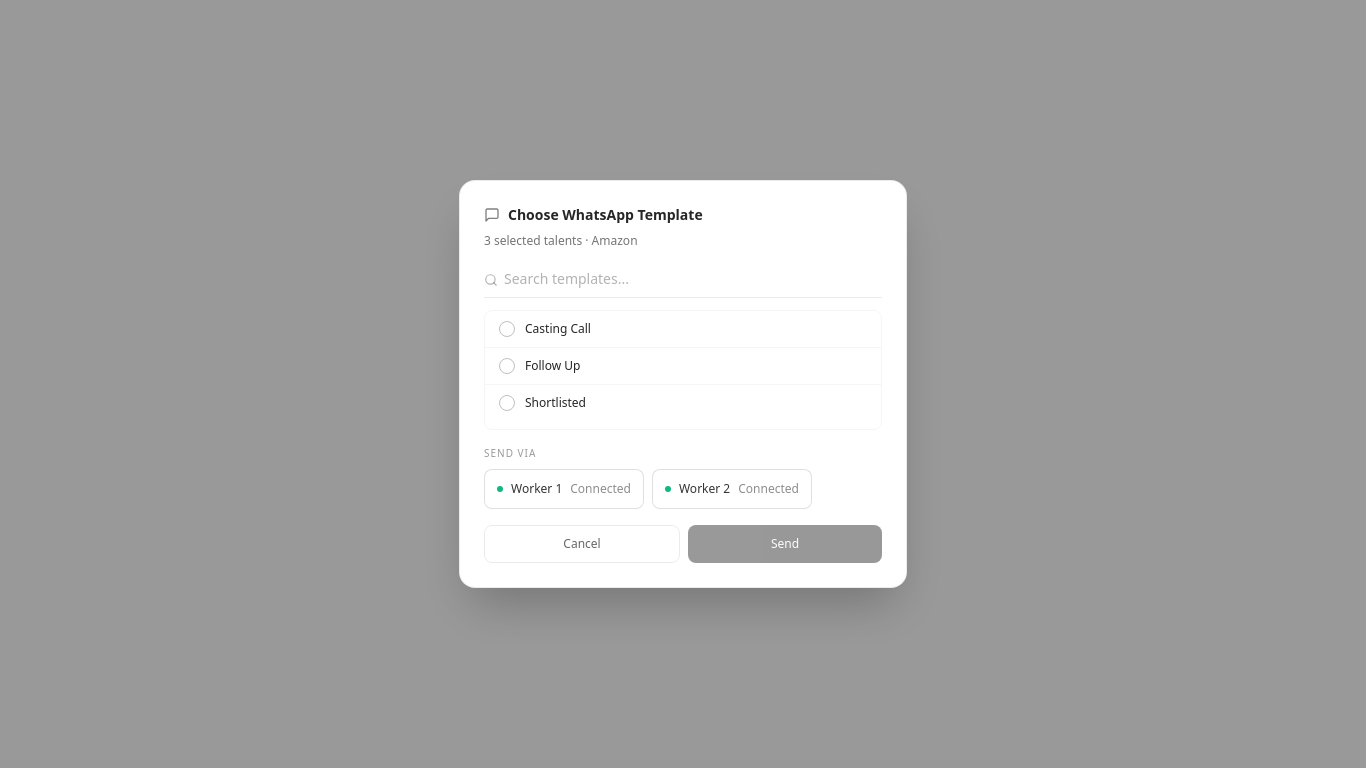
Test: PipelineTemplateSend — the picker › Send stays disabled until BOTH a template and a worker are chosen
The image size is (1366, 768).
Check: the button with test id "template-picker-send" is disabled, box [688,525,882,563]
Click the button with test id "template-picker-option-t-cc" at (558, 328), box [485,311,881,347]
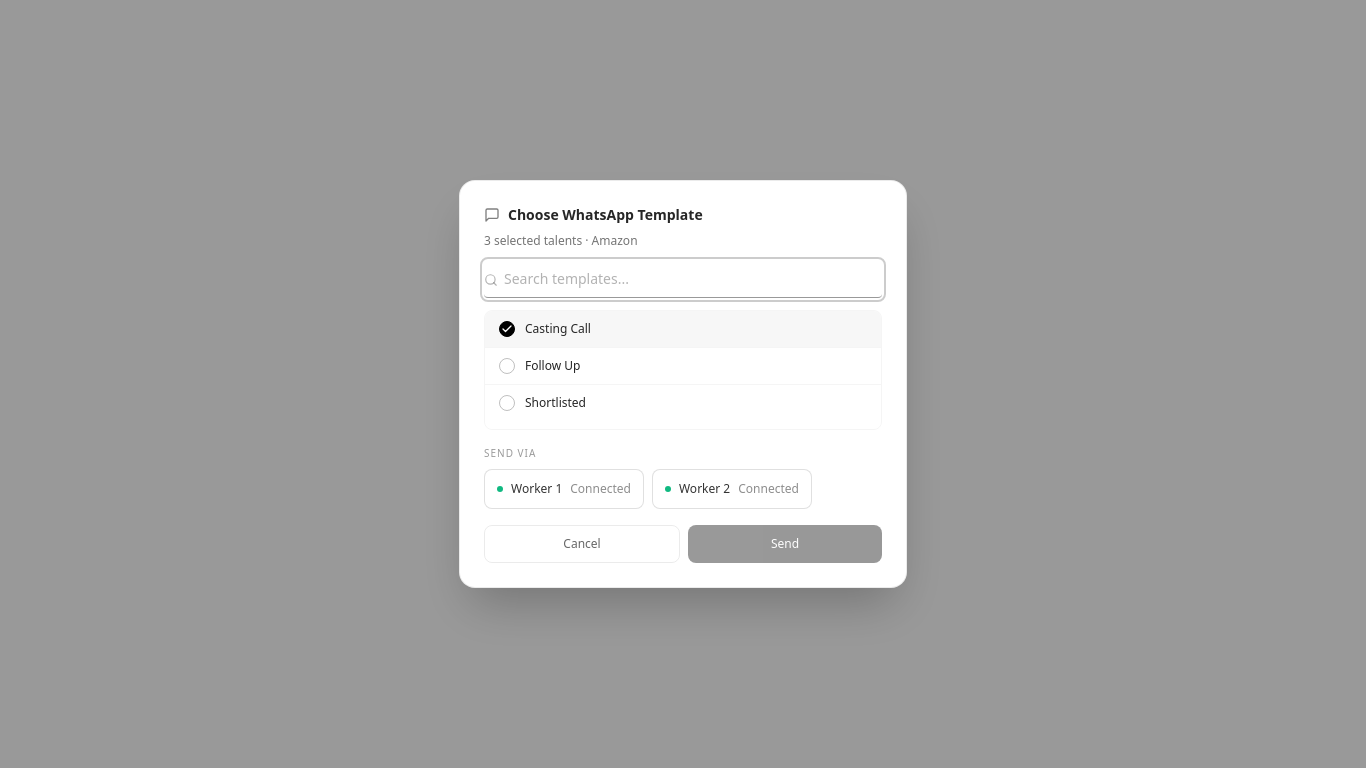
Check: the button with test id "template-picker-send" is disabled, box [688,525,882,563]
Click the radio button with test id "send-via-worker-2" at (732, 489), box [652,469,812,509]
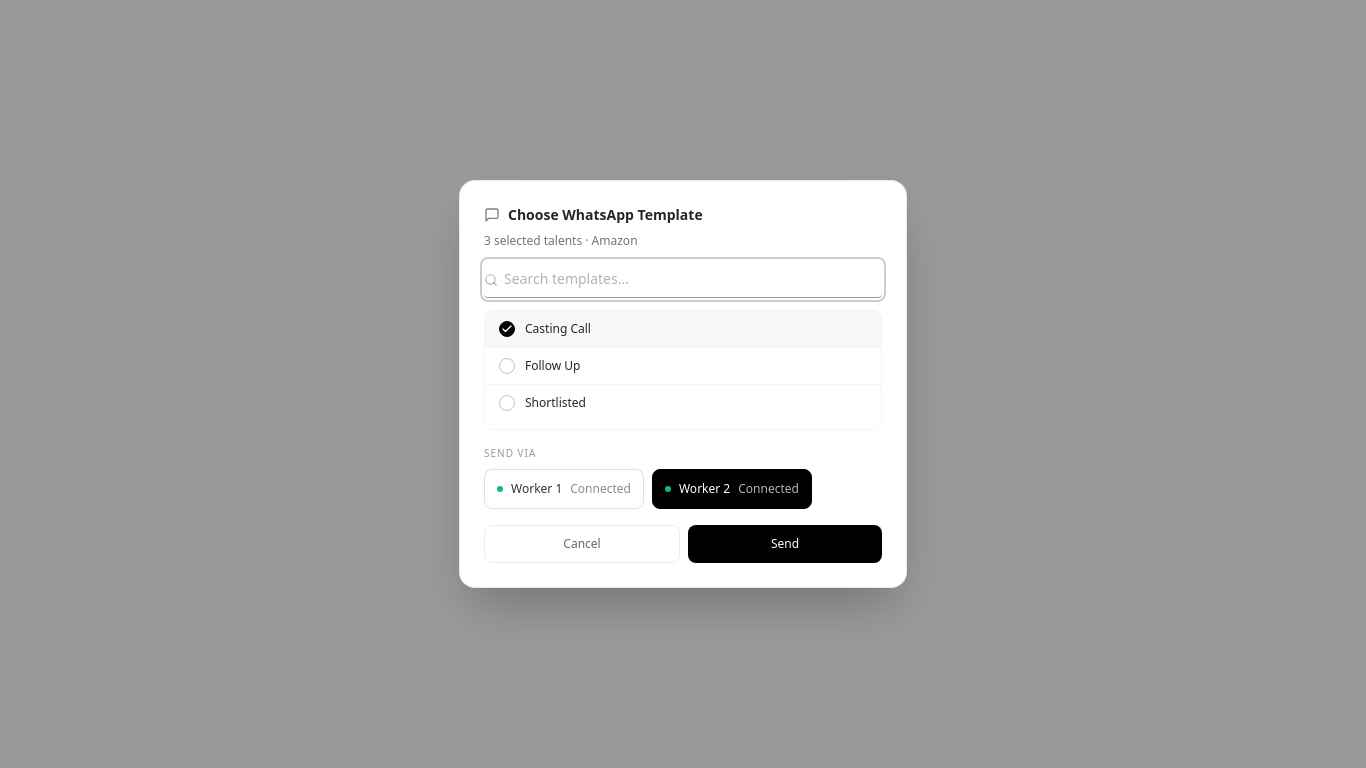
Check: the button with test id "template-picker-send" is enabled, box [688,525,882,563]
